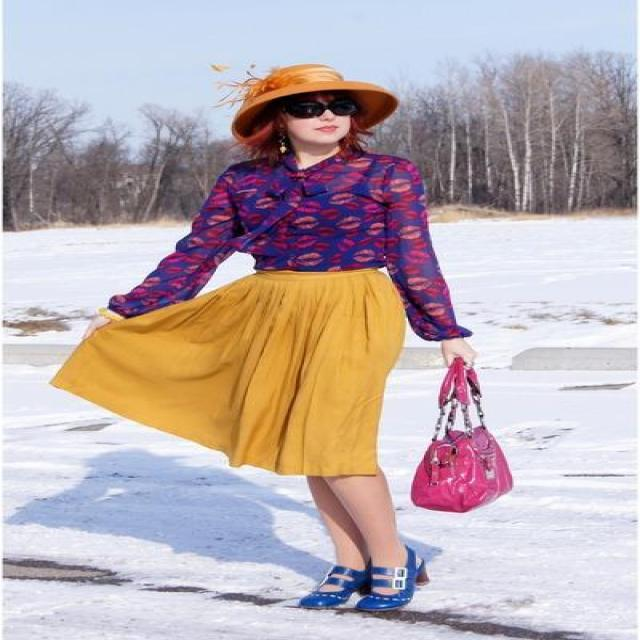bag: (411, 354, 512, 512)
hat: (232, 64, 397, 158)
shirt: (107, 141, 472, 340)
shoe: (298, 545, 426, 613)
skirt: (50, 266, 408, 476)
sunglass: (288, 90, 355, 114)
